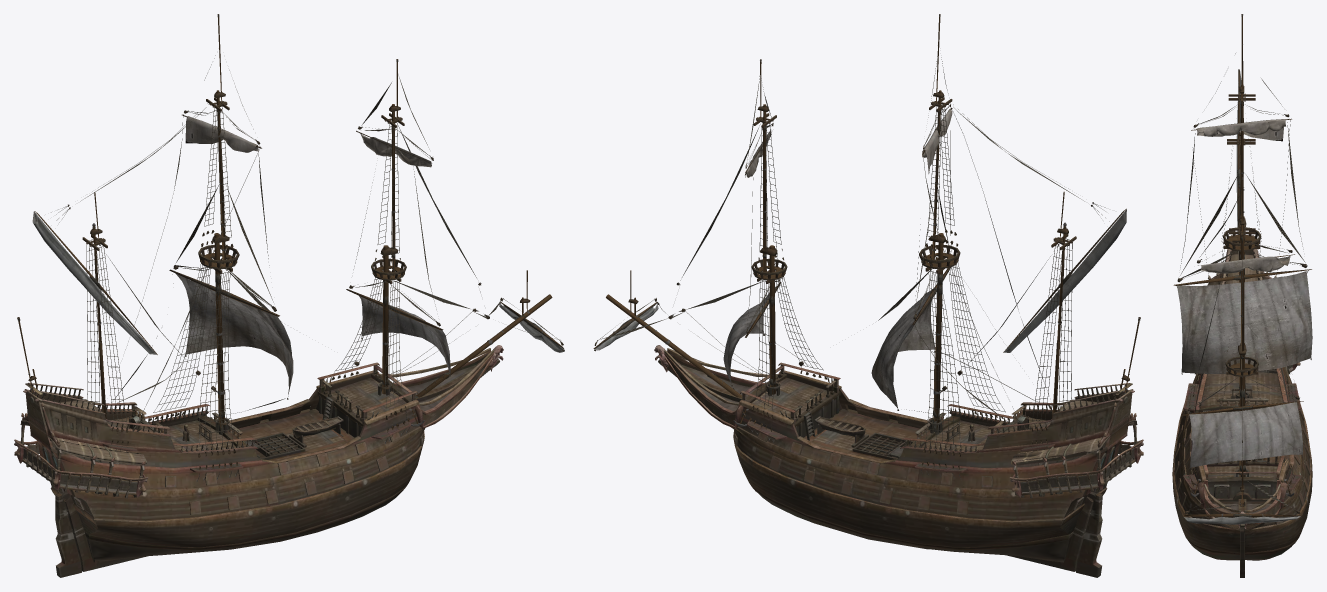
Rendered from dutch_ship_large_01.glb.
3 renders of one model, left to right at view 1: azimuth 30°, elevation 25°; view 2: azimuth 150°, elevation 25°; view 3: azimuth 270°, elevation 25°, orthographic. The views are drawn at different scales.
Visible parts, largest first — view 1: dutch_ship_large_01_hull, dutch_ship_large_01_rigging, dutch_ship_large_01_sails; view 2: dutch_ship_large_01_hull, dutch_ship_large_01_rigging, dutch_ship_large_01_sails; view 3: dutch_ship_large_01_sails, dutch_ship_large_01_hull, dutch_ship_large_01_rigging.
Boxes of the visible parts, x1,y1,x2,y2 form: dutch_ship_large_01_hull: (14, 345, 503, 577); dutch_ship_large_01_rigging: (17, 14, 564, 481); dutch_ship_large_01_sails: (176, 116, 450, 396); dutch_ship_large_01_hull: (654, 345, 1143, 577); dutch_ship_large_01_rigging: (593, 14, 1140, 479); dutch_ship_large_01_sails: (723, 109, 952, 408); dutch_ship_large_01_sails: (1177, 119, 1312, 467); dutch_ship_large_01_hull: (1172, 235, 1312, 577); dutch_ship_large_01_rigging: (1173, 14, 1311, 524).
Size of the model in its own units: 34.21 by 32.05 by 8.39.
Materials: 3 (3 with a texture image).
